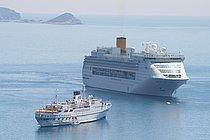Ship: (79, 32, 196, 104), (35, 89, 115, 130)
